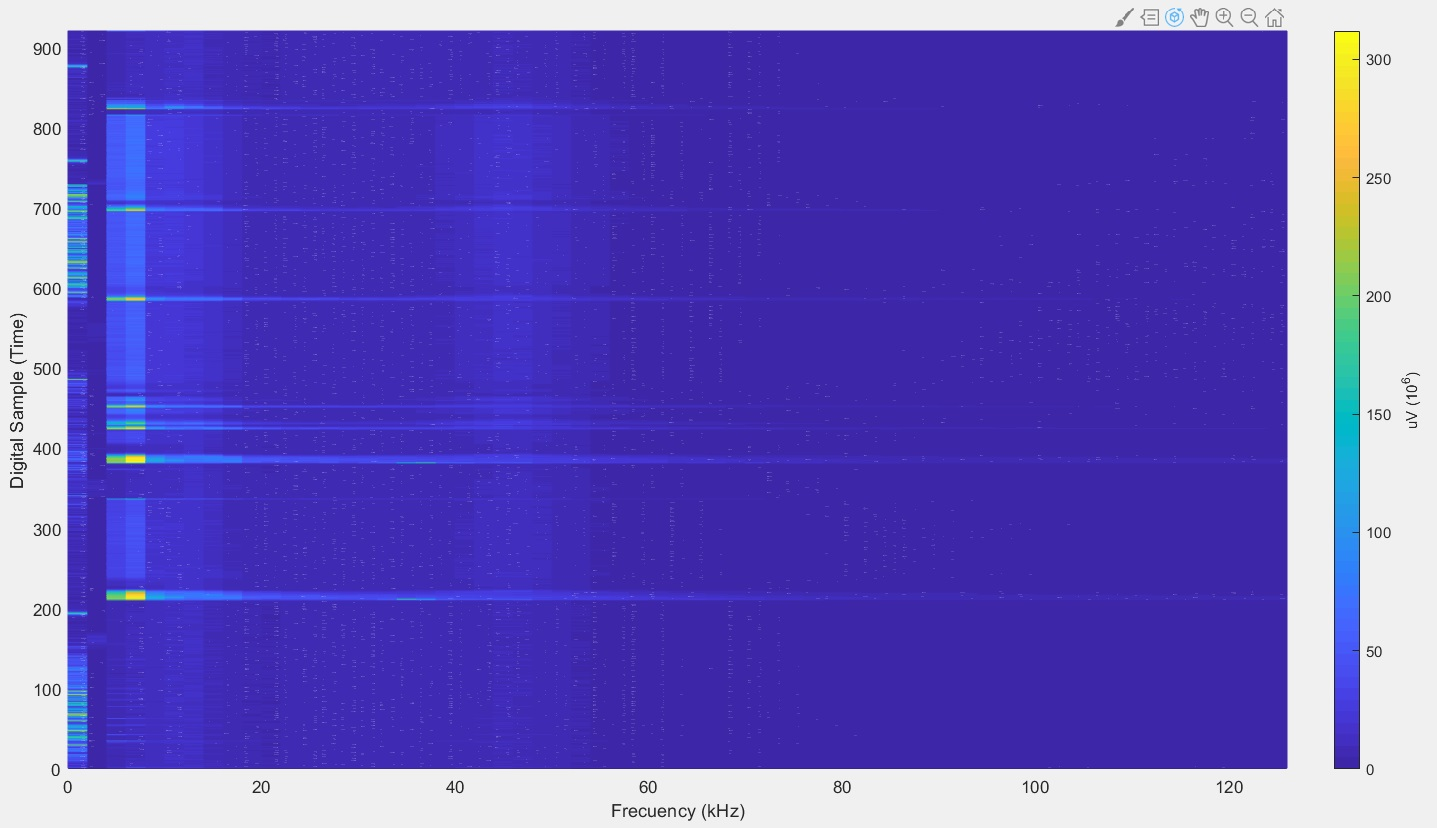leak: (90, 108, 172, 200), (95, 492, 164, 584), (93, 213, 166, 290), (95, 305, 161, 390)
